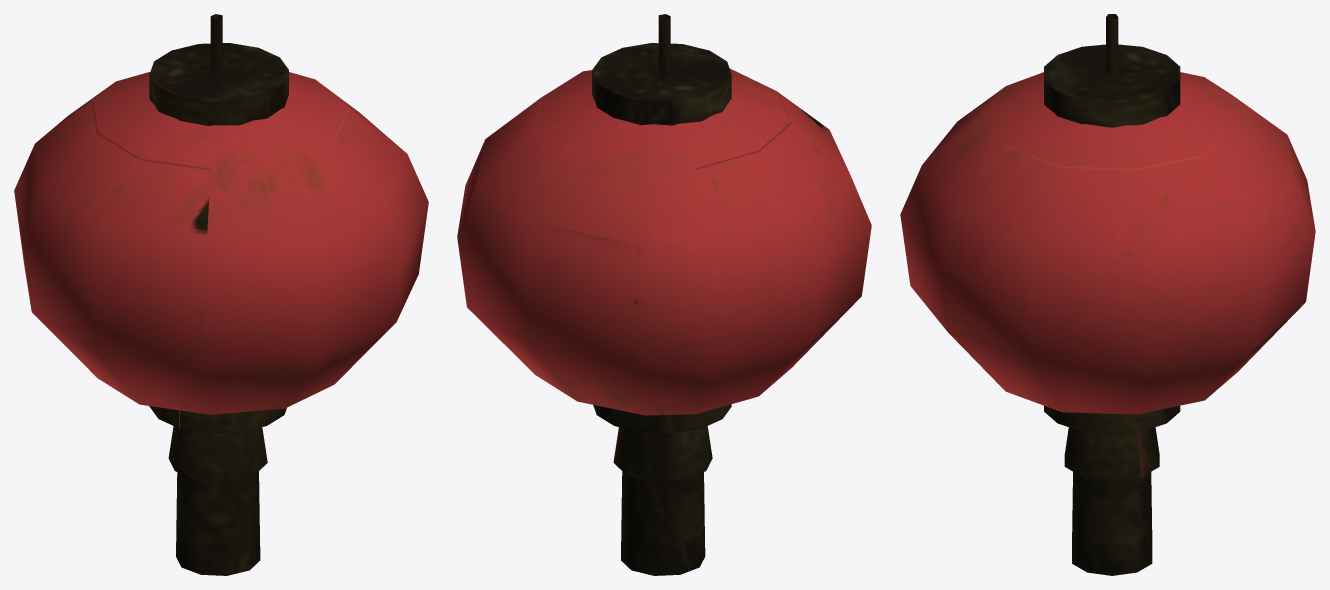
Rendered from MDL_Environment_TownExterior01_SMLanternPaper01_D3AB.fbx.
3 renders of one model, left to right at view 1: azimuth 30°, elevation 25°; view 2: azimuth 150°, elevation 25°; view 3: azimuth 270°, elevation 25°, orthographic.
Visible parts, largest first — view 1: Object59470; view 2: Object59470; view 3: Object59470.
Part boxes in pixels (x1,y1,x2,y2): Object59470: (14, 14, 428, 575); Object59470: (457, 14, 871, 575); Object59470: (900, 14, 1315, 575).
Bounding box in the file's own units: 0.4696 × 0.689 × 0.4792.
